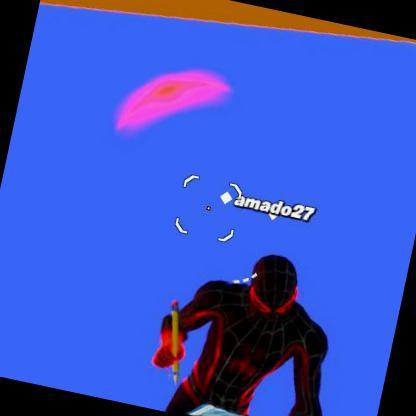person: (140, 233, 360, 416)
